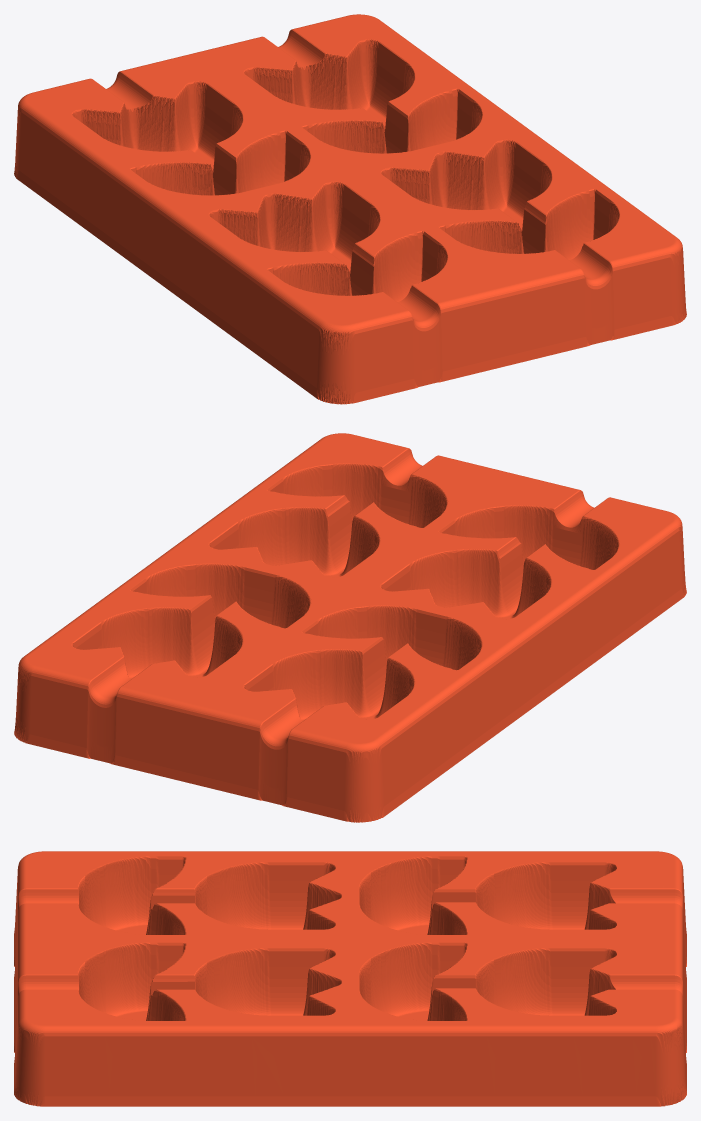
File: mold.glb
3 views of the same model, one above another, from view 1: azimuth 30°, elevation 25°; view 2: azimuth 150°, elevation 25°; view 3: azimuth 270°, elevation 25° (orthographic). The views are drawn at different scales.
Visible parts, largest first — view 1: geometry_0; view 2: geometry_0; view 3: geometry_0.
Part boxes in pixels (left/top/right/bottom): geometry_0: left=14, top=14, right=686, bottom=404; geometry_0: left=14, top=433, right=686, bottom=822; geometry_0: left=14, top=851, right=686, bottom=1106.
Size of the model in its own units: 0.1272 by 0.0245 by 0.1968.
